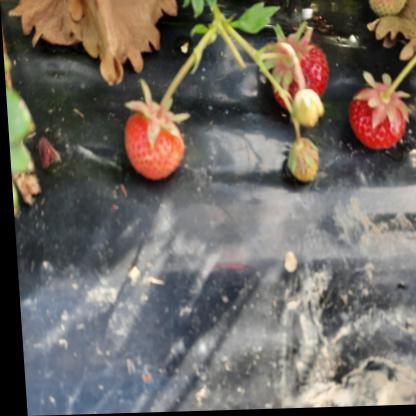ripe: (344, 84, 409, 157), (267, 37, 332, 104), (125, 105, 175, 177)
unripe: (287, 139, 318, 186), (289, 90, 325, 128)
